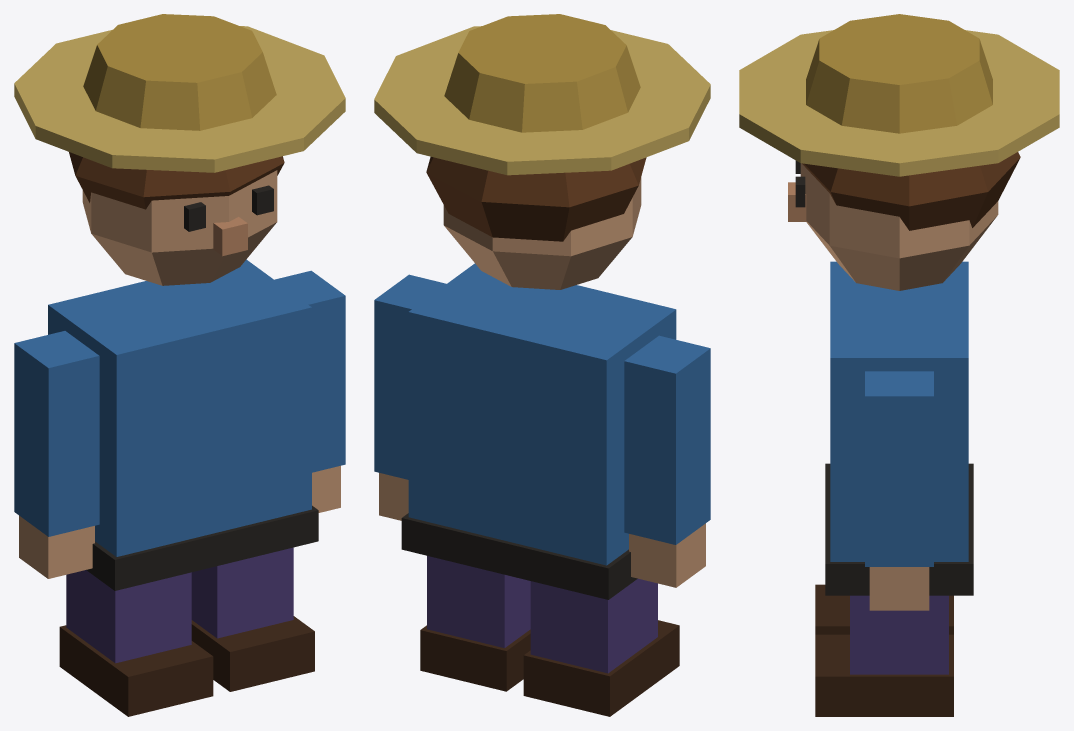
The model's file is player.glb.
3 views of the same model, side by side, from view 1: azimuth 30°, elevation 25°; view 2: azimuth 150°, elevation 25°; view 3: azimuth 270°, elevation 25° (orthographic).
Visible parts, largest first — view 1: body, head, arm_l, leg_l, leg_r, arm_r; view 2: body, head, arm_l, leg_l, leg_r, arm_r; view 3: head, body, arm_r, leg_r, leg_l.
Part boxes in pixels (x1=…): body: x1=48, y1=259, x2=318, y2=590; head: x1=14, y1=14, x2=345, y2=285; arm_l: x1=14, y1=331, x2=99, y2=578; leg_l: x1=59, y1=570, x2=213, y2=716; leg_r: x1=191, y1=547, x2=314, y2=691; arm_r: x1=274, y1=270, x2=345, y2=512; body: x1=401, y1=263, x2=676, y2=599; head: x1=374, y1=14, x2=710, y2=289; arm_l: x1=624, y1=335, x2=710, y2=587; leg_l: x1=523, y1=578, x2=679, y2=716; leg_r: x1=420, y1=556, x2=530, y2=691; arm_r: x1=374, y1=274, x2=446, y2=520; head: x1=739, y1=14, x2=1059, y2=290; body: x1=825, y1=261, x2=973, y2=595; arm_r: x1=865, y1=371, x2=933, y2=610; leg_r: x1=815, y1=595, x2=953, y2=716; leg_l: x1=815, y1=584, x2=953, y2=634.
Size of the model in its own units: 0.7 by 1.38 by 0.6467.
